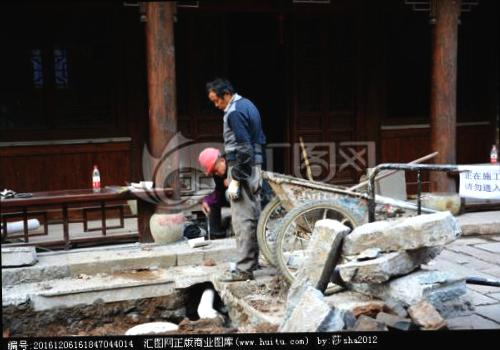no_helmet: (201, 74, 238, 112)
